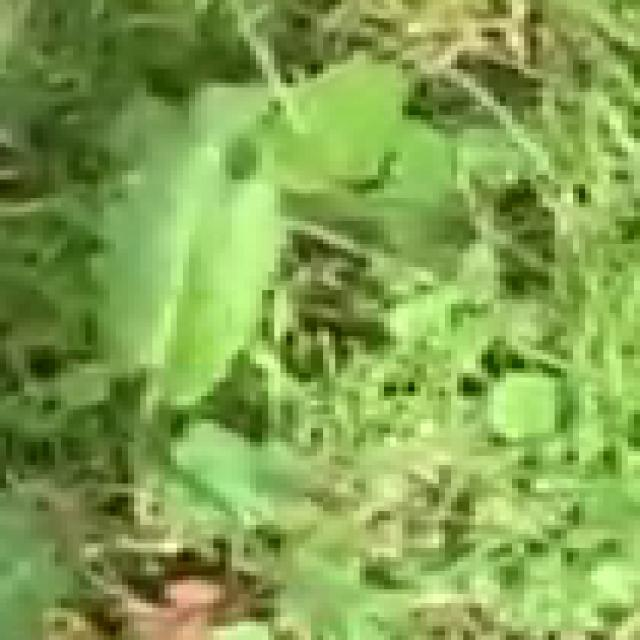organic waste: (55, 51, 506, 488)
